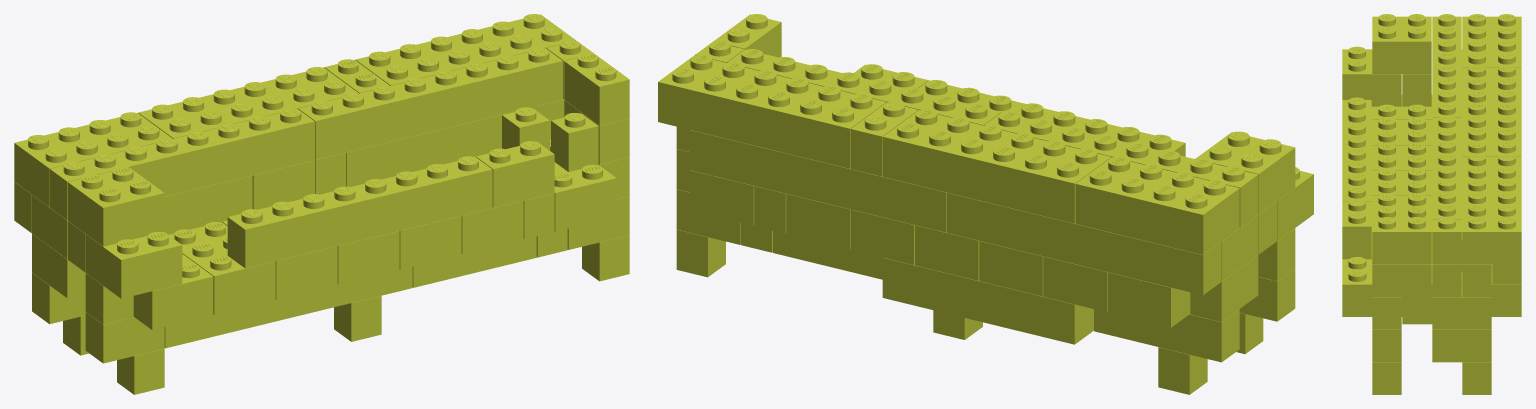
The model's file is brickgpt_c39c74af_2_a_soft_sofa_made_of_leather_th_seed123.glb.
The picture shows the model from 3 angles, left to right: view 1: azimuth 30°, elevation 25°; view 2: azimuth 150°, elevation 25°; view 3: azimuth 270°, elevation 25°; orthographic projection. The views are drawn at different scales.
Parts seen in each view (by area): view 1: 00042_3008.DAT, 00051_3008.DAT, 00054_3008.DAT, 00049_2456.DAT, 00052_2456.DAT, 00055_3003.DAT, 00053_3001.DAT, 00038_2456.DAT, 00016_3008.DAT, 00046_3003.DAT, 00044_2456.DAT, 00027_2456.DAT (+30 smaller); view 2: 00052_2456.DAT, 00049_2456.DAT, 00053_3001.DAT, 00043_3008.DAT, 00040_3008.DAT, 00014_2456.DAT, 00054_3008.DAT, 00051_3008.DAT, 00017_3010.DAT, 00055_3003.DAT, 00042_3008.DAT, 00028_2456.DAT (+25 smaller); view 3: 00049_2456.DAT, 00052_2456.DAT, 00021_2456.DAT, 00055_3003.DAT, 00053_3001.DAT, 00042_3008.DAT, 00051_3008.DAT, 00054_3008.DAT, 00048_3004.DAT, 00046_3003.DAT, 00007_3003.DAT, 00019_3004.DAT (+19 smaller).
Boxes of the visible parts, x1,y1,x2,y2 form: 00042_3008.DAT: [227, 156, 492, 268]; 00051_3008.DAT: [298, 47, 562, 159]; 00054_3008.DAT: [50, 108, 314, 220]; 00049_2456.DAT: [355, 14, 575, 85]; 00052_2456.DAT: [138, 67, 358, 138]; 00055_3003.DAT: [68, 167, 164, 246]; 00053_3001.DAT: [14, 112, 172, 207]; 00038_2456.DAT: [346, 107, 531, 186]; 00016_3008.DAT: [164, 266, 412, 348]; 00046_3003.DAT: [85, 232, 182, 298]; 00044_2456.DAT: [32, 175, 252, 259]; 00027_2456.DAT: [169, 222, 275, 314]; 00052_2456.DAT: [882, 109, 1111, 223]; 00049_2456.DAT: [658, 54, 886, 168]; 00053_3001.DAT: [1075, 156, 1239, 254]; 00043_3008.DAT: [947, 192, 1221, 295]; 00040_3008.DAT: [690, 130, 946, 232]; 00014_2456.DAT: [882, 257, 1093, 344]; 00054_3008.DAT: [984, 111, 1258, 227]; 00051_3008.DAT: [727, 49, 1001, 125]; 00017_3010.DAT: [1094, 309, 1239, 362]; 00055_3003.DAT: [1195, 131, 1295, 214]; 00042_3008.DAT: [918, 80, 1185, 156]; 00028_2456.DAT: [1107, 272, 1190, 327]; 00049_2456.DAT: [1462, 153, 1521, 264]; 00052_2456.DAT: [1462, 64, 1521, 143]; 00021_2456.DAT: [1342, 257, 1521, 316]; 00055_3003.DAT: [1372, 14, 1431, 73]; 00053_3001.DAT: [1462, 14, 1521, 67]; 00042_3008.DAT: [1342, 97, 1371, 201]; 00051_3008.DAT: [1432, 115, 1461, 219]; 00054_3008.DAT: [1432, 14, 1461, 117]; 00048_3004.DAT: [1372, 217, 1431, 264]; 00046_3003.DAT: [1342, 46, 1401, 106]; 00007_3003.DAT: [1432, 329, 1491, 362]; 00019_3004.DAT: [1432, 285, 1491, 329].
Size of the model in its own units: 0.1358 by 0.0495 by 0.0478.
